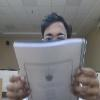notebook: (12, 37, 87, 99)
